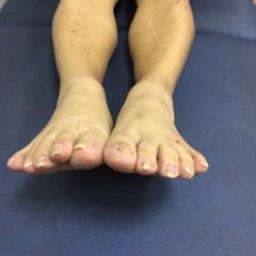Front View -Both Feet-: (6, 49, 216, 196)
